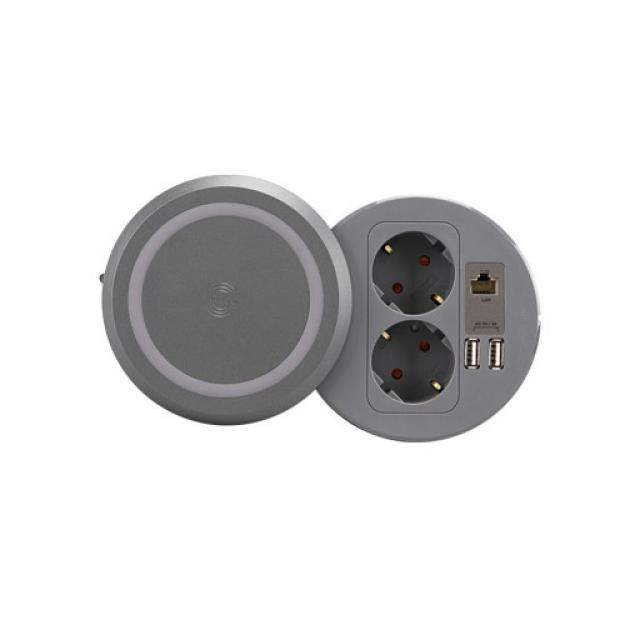typeb: (337, 174, 563, 496)
